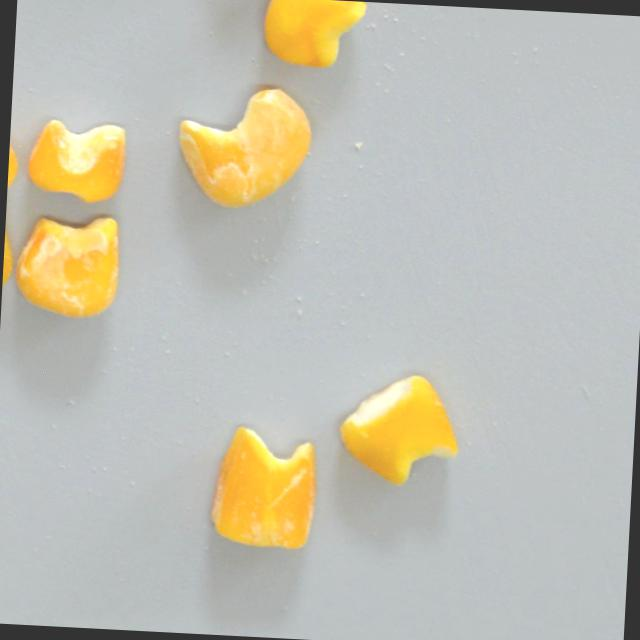no_canjicado: (334, 371, 462, 489), (25, 118, 127, 205), (259, 0, 369, 72)
pelicula: (173, 85, 313, 213), (208, 424, 320, 554), (11, 212, 123, 324)
